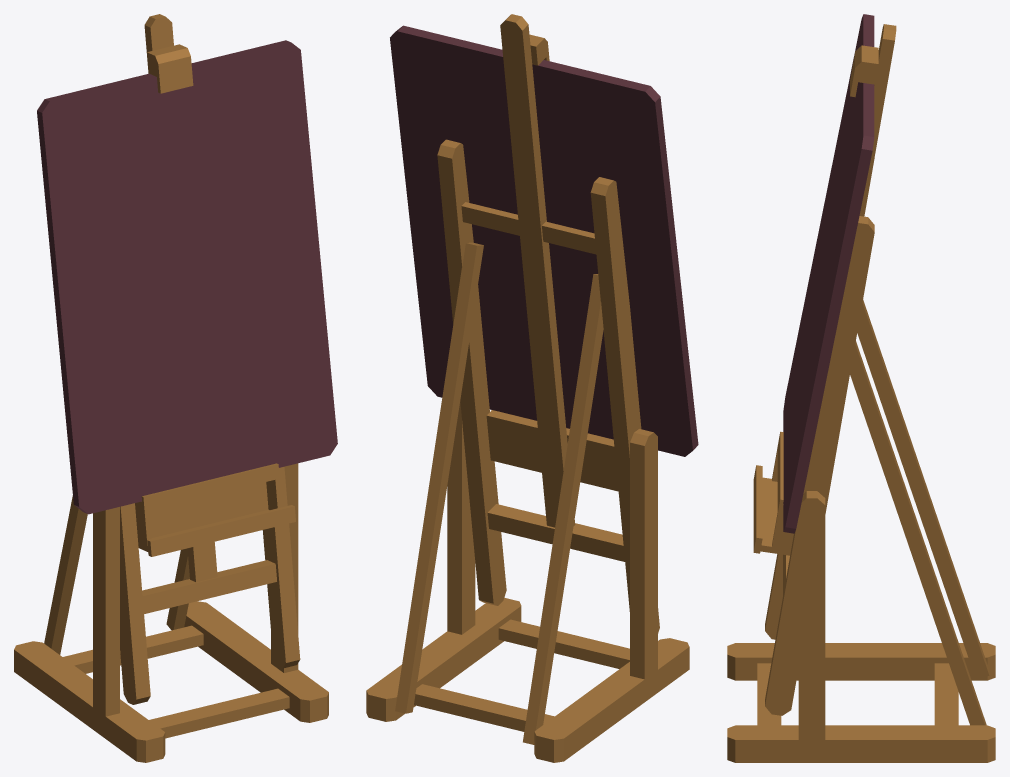
File: stand-easel-canvas-vertical-nature.fbx
The picture shows the model from 3 angles, left to right: view 1: azimuth 30°, elevation 25°; view 2: azimuth 150°, elevation 25°; view 3: azimuth 270°, elevation 25°; orthographic projection. The views are drawn at different scales.
Parts seen in each view (by area): view 1: stand-easel-canvas-vertical-nature; view 2: stand-easel-canvas-vertical-nature; view 3: stand-easel-canvas-vertical-nature.
Boxes of the visible parts, bbox=[...] form: stand-easel-canvas-vertical-nature: bbox=[14, 14, 337, 762]; stand-easel-canvas-vertical-nature: bbox=[366, 14, 698, 762]; stand-easel-canvas-vertical-nature: bbox=[727, 14, 995, 762].
Bounding box in the file's own units: 0.9 × 2.22 × 0.784.
